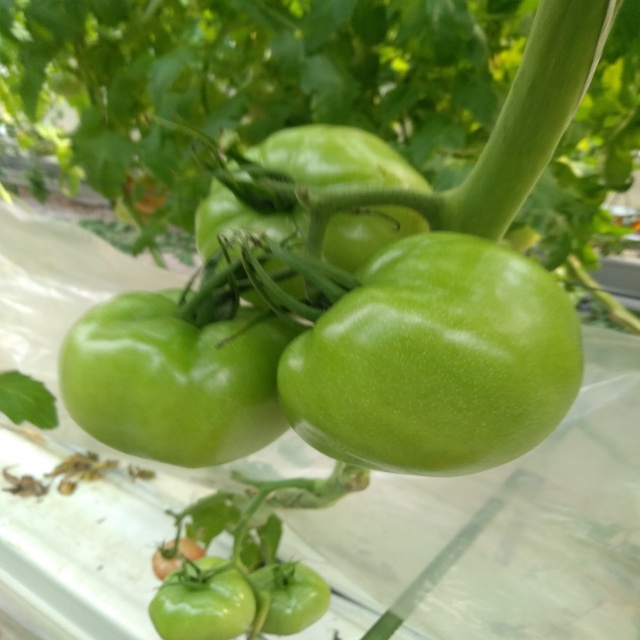b_green: (276, 230, 586, 478), (196, 123, 452, 321), (57, 288, 310, 468), (148, 555, 255, 640), (245, 562, 331, 636)
b_half_ripened: (153, 538, 206, 582)
